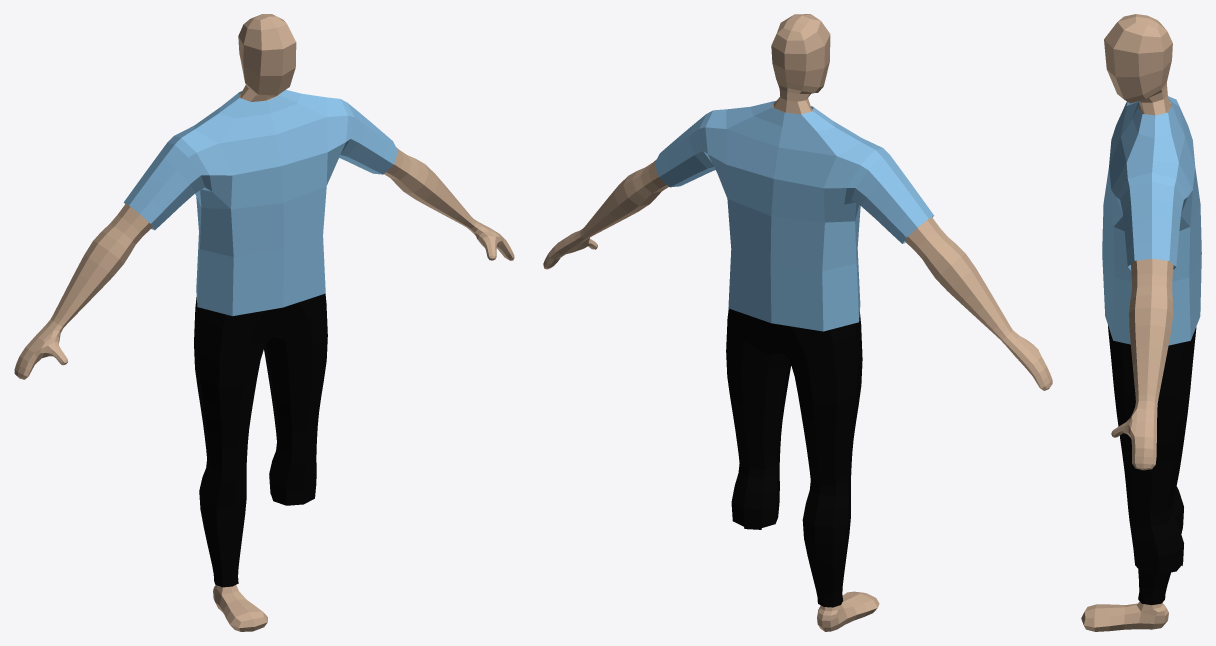
File: Malecut.fbx
3 renders of one model, left to right at view 1: azimuth 30°, elevation 25°; view 2: azimuth 150°, elevation 25°; view 3: azimuth 270°, elevation 25°, orthographic. The views are drawn at different scales.
Parts seen in each view (by area): view 1: Vert.001; view 2: Vert.001; view 3: Vert.001.
Part boxes in pixels (x1,y1,x2,y2): Vert.001: [14, 14, 514, 631]; Vert.001: [543, 14, 1052, 631]; Vert.001: [1081, 14, 1201, 631].
Size of the model in its own units: 550 by 627 by 109.
